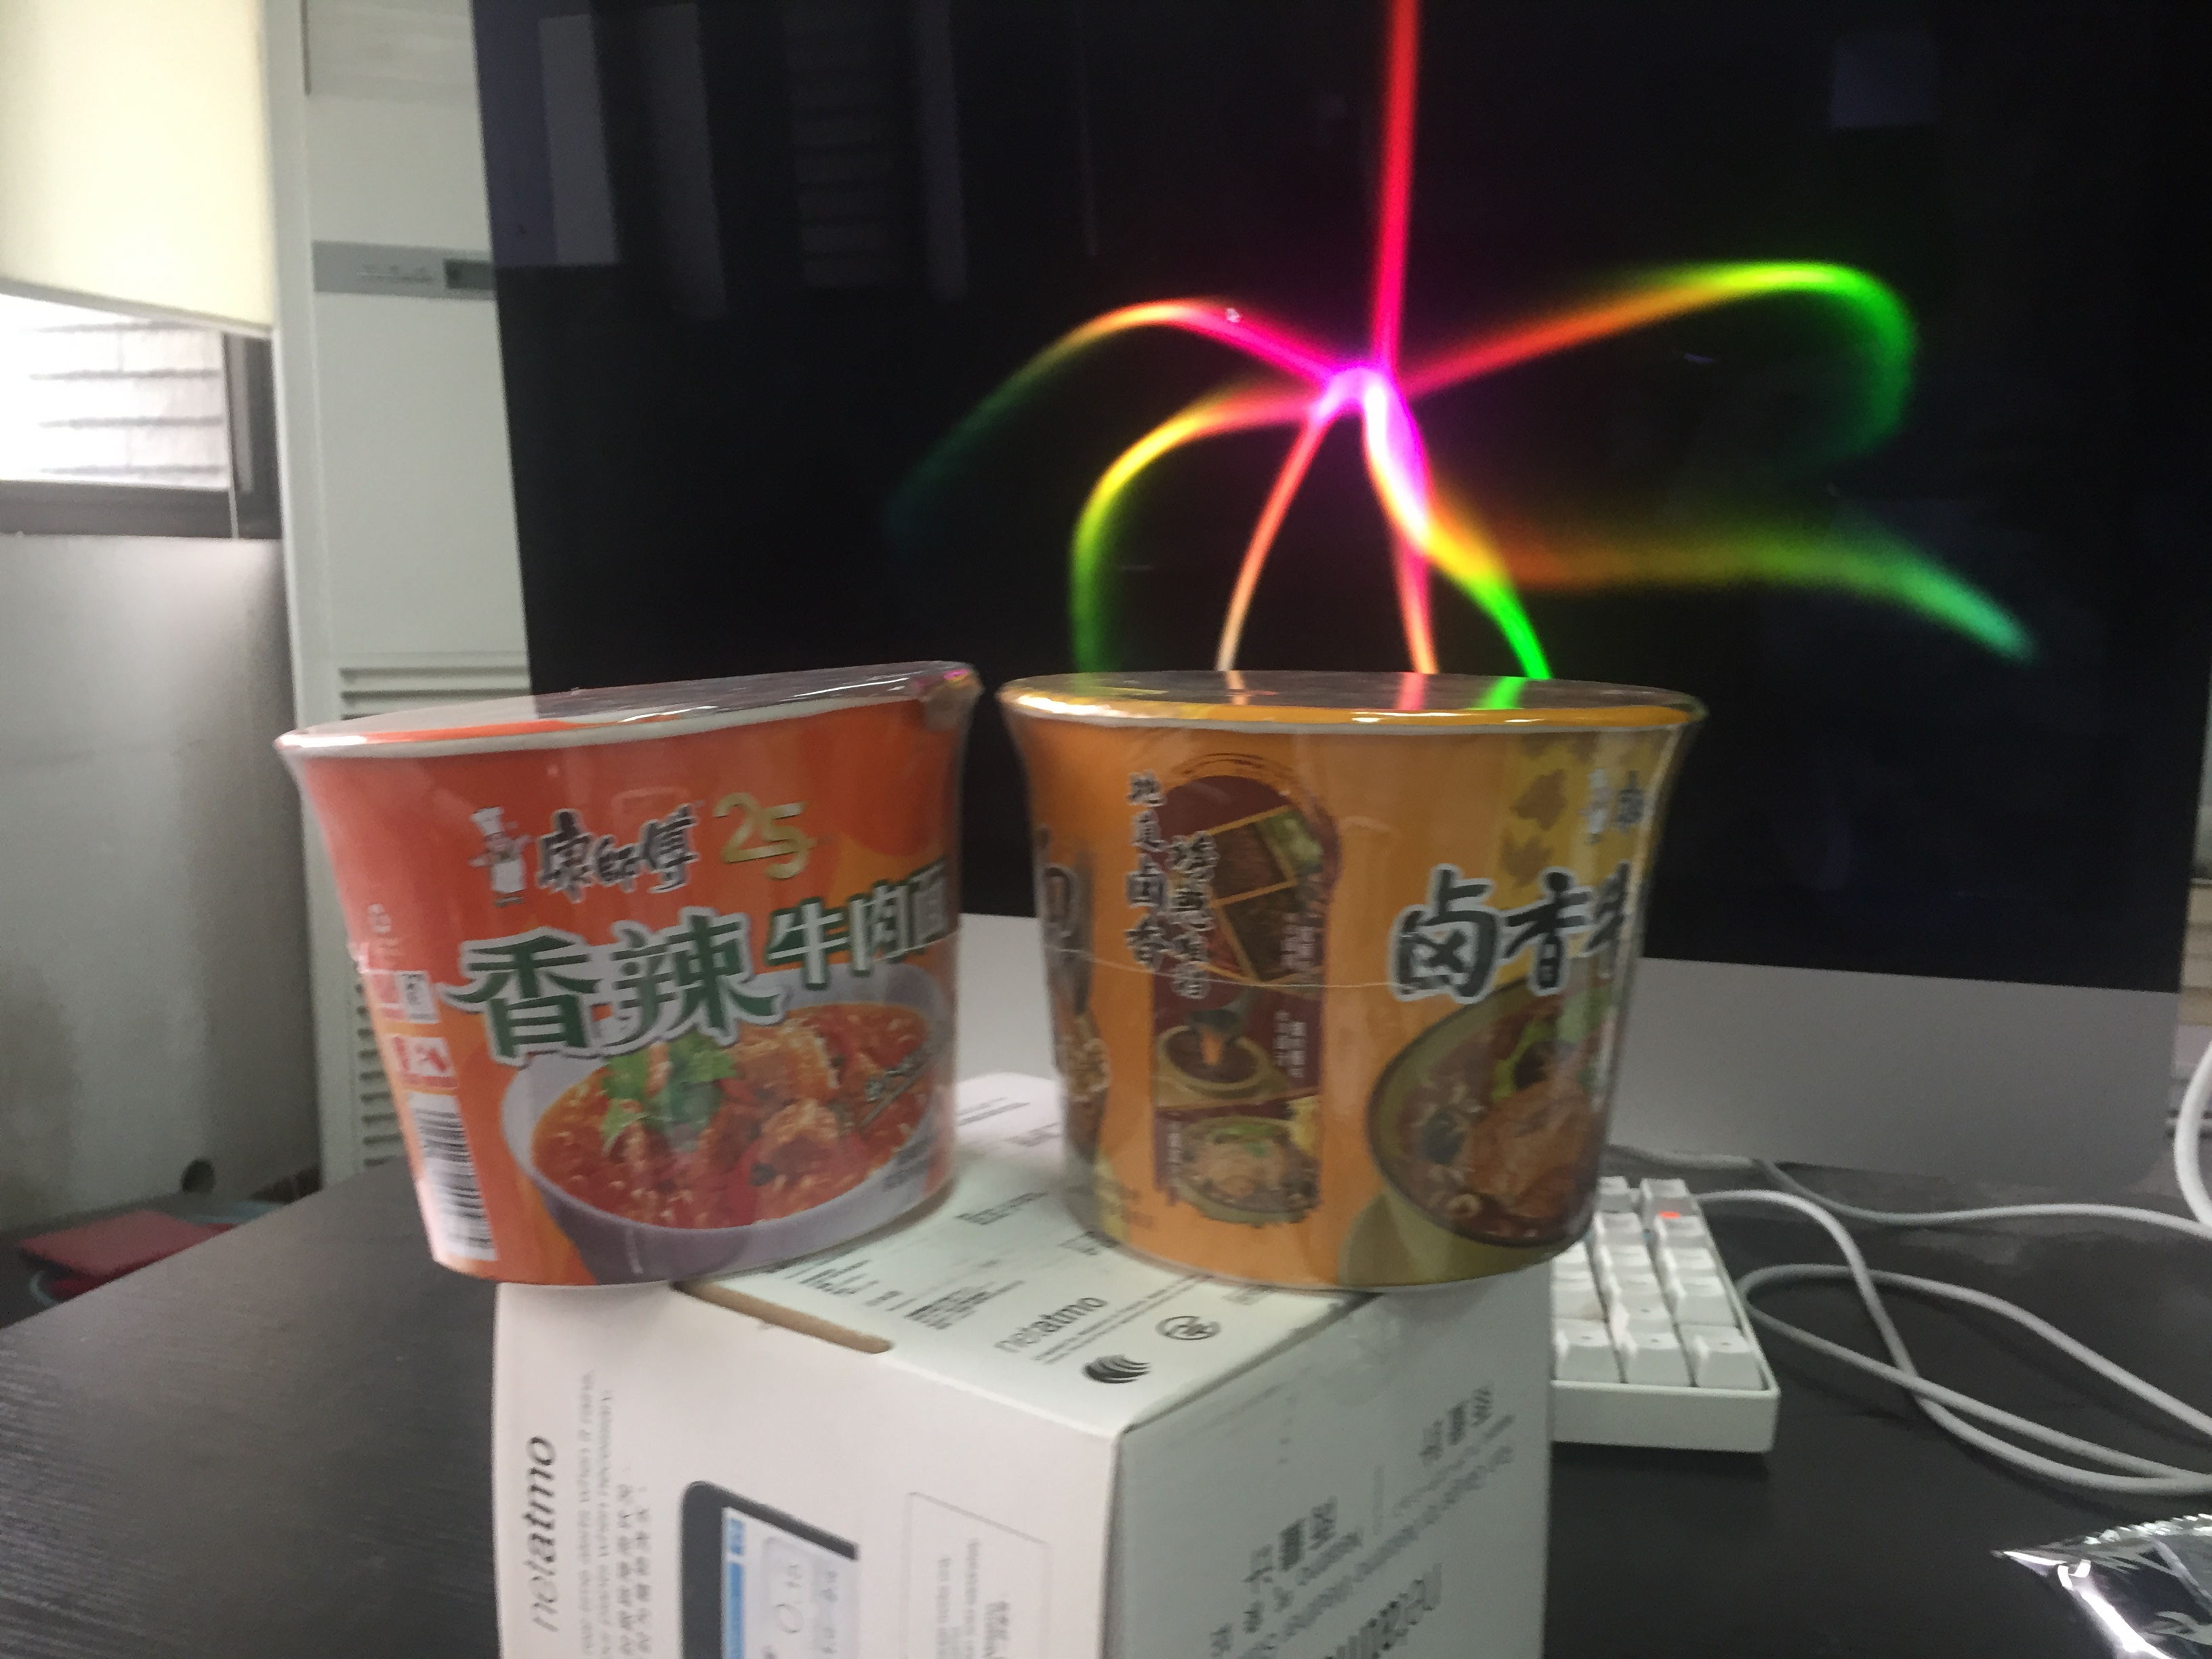luxiang: (996, 666, 1714, 1293)
xiangla: (270, 659, 989, 1291)
